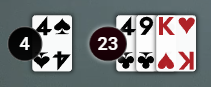4: (114, 14, 138, 38), (30, 15, 54, 38)
9: (134, 13, 156, 39)
k: (153, 13, 177, 39)
